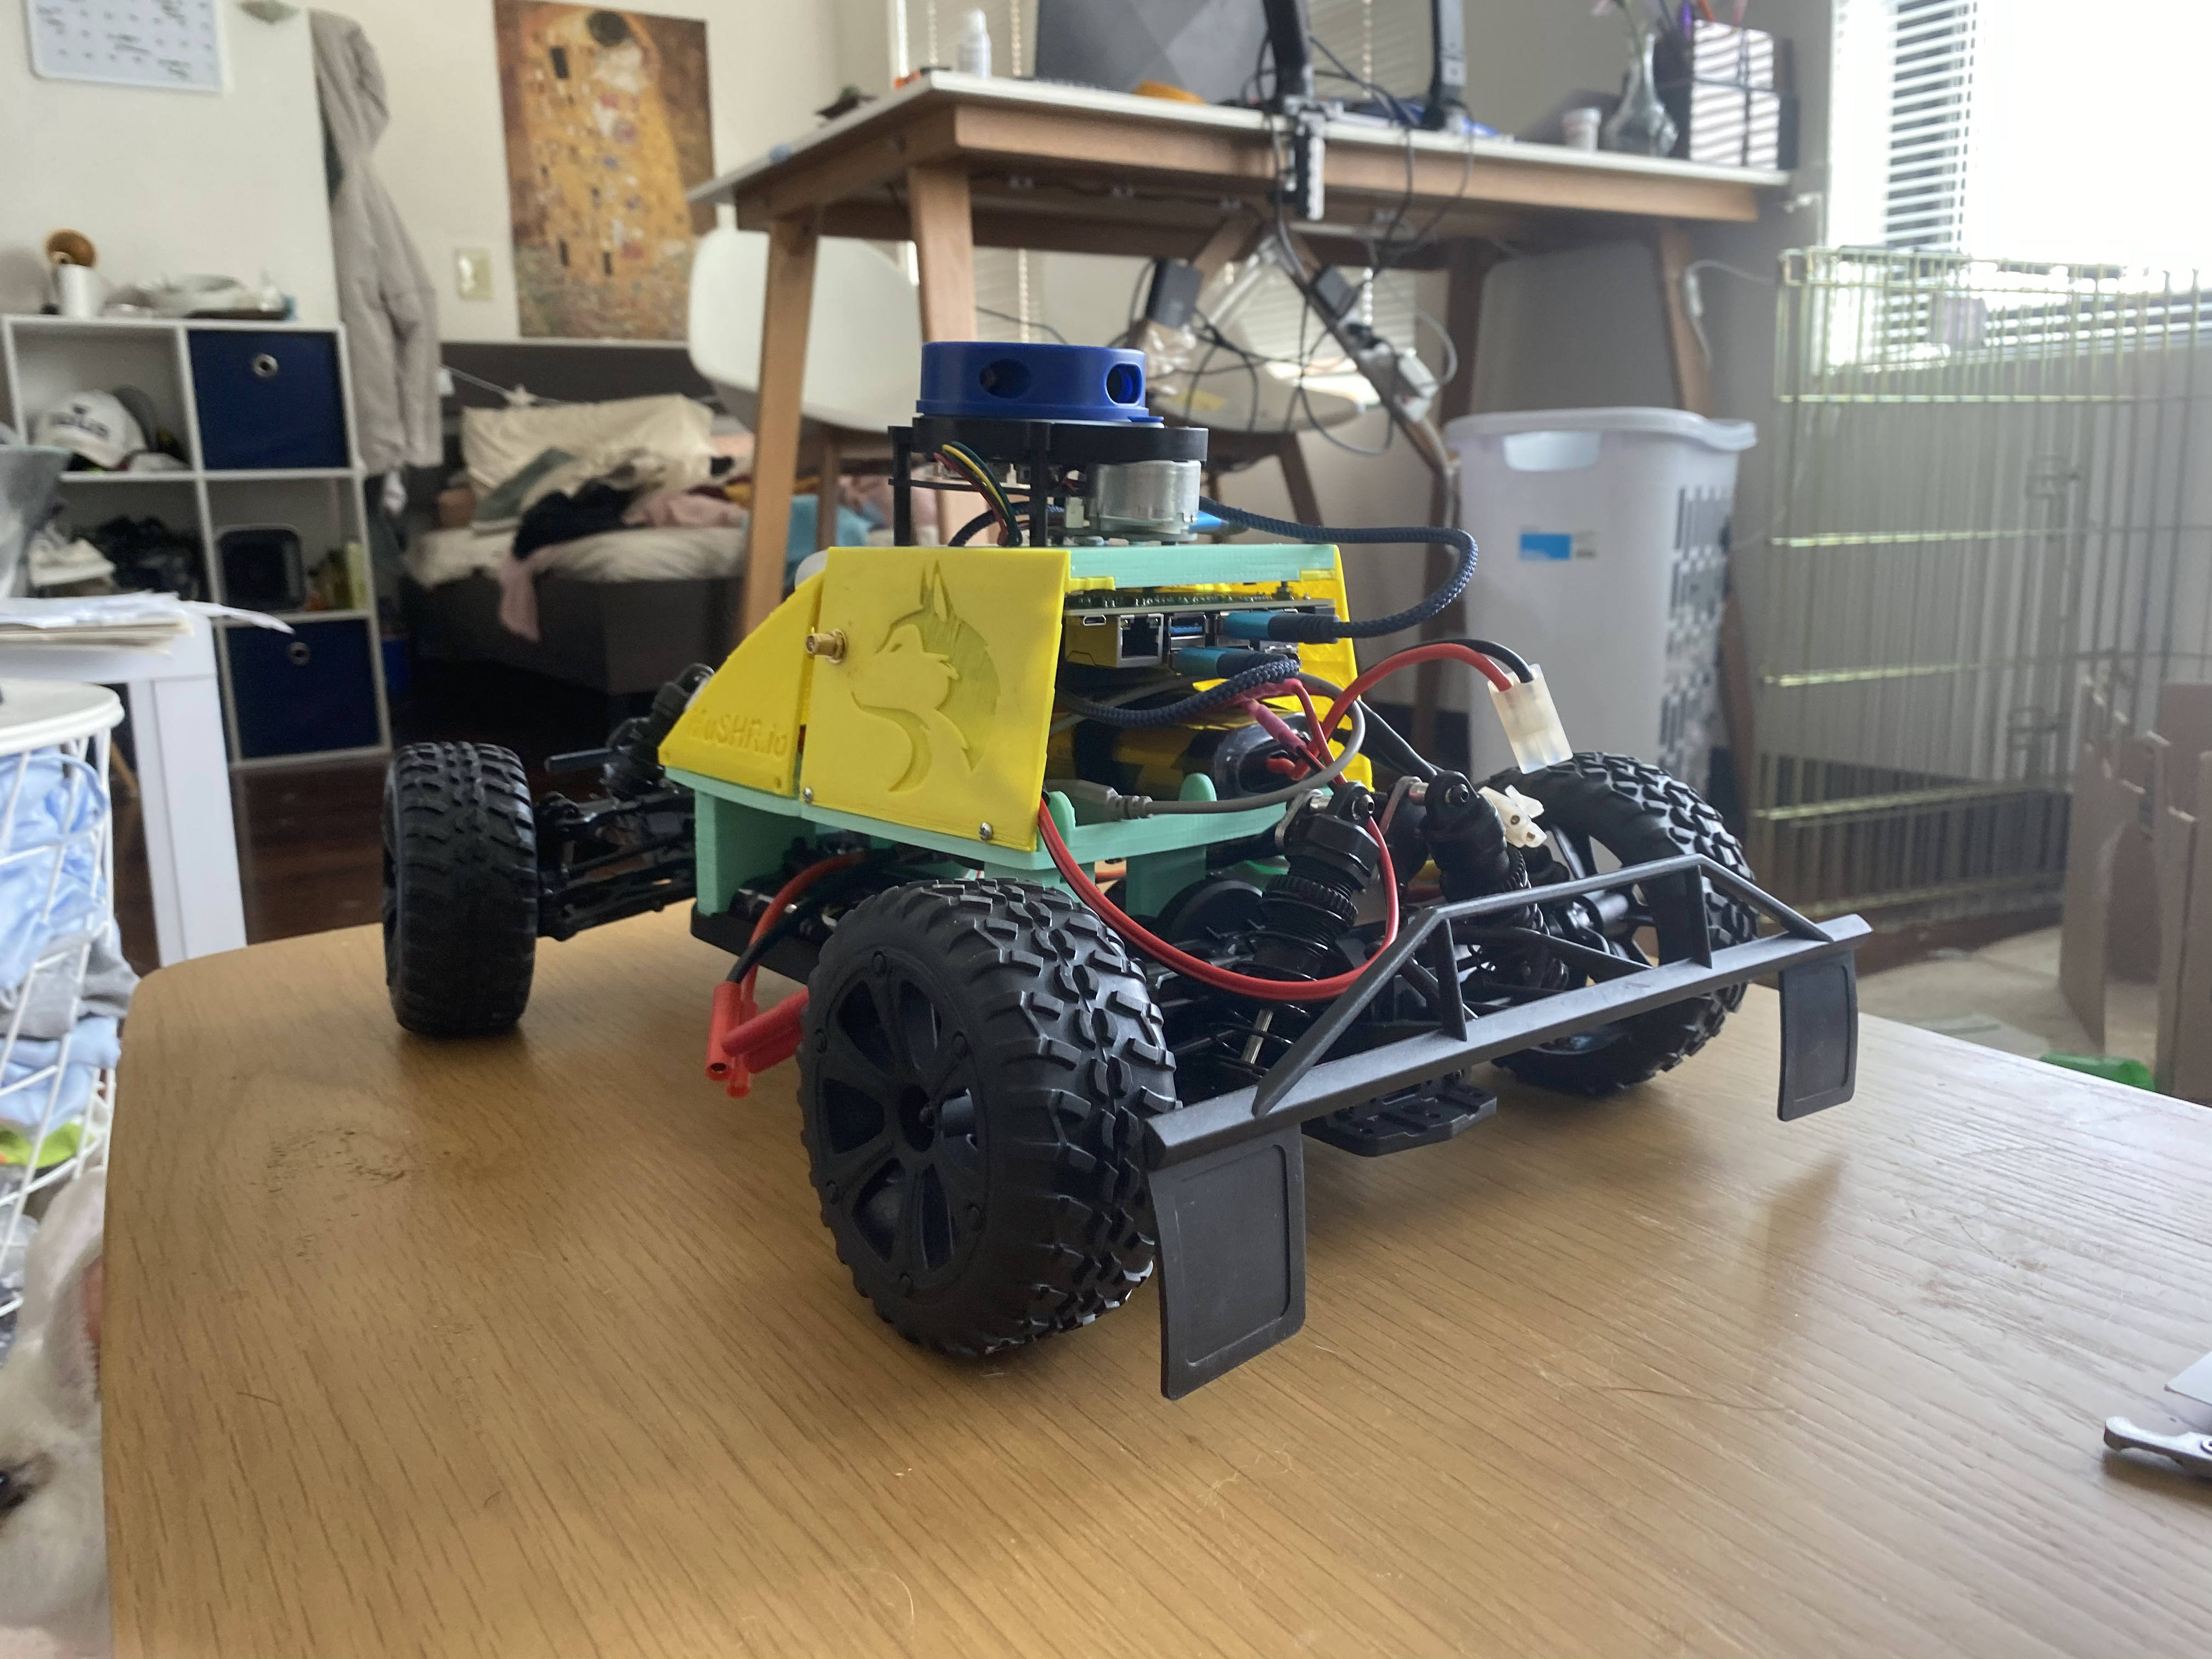mushr_car: (359, 315, 1879, 1434)
